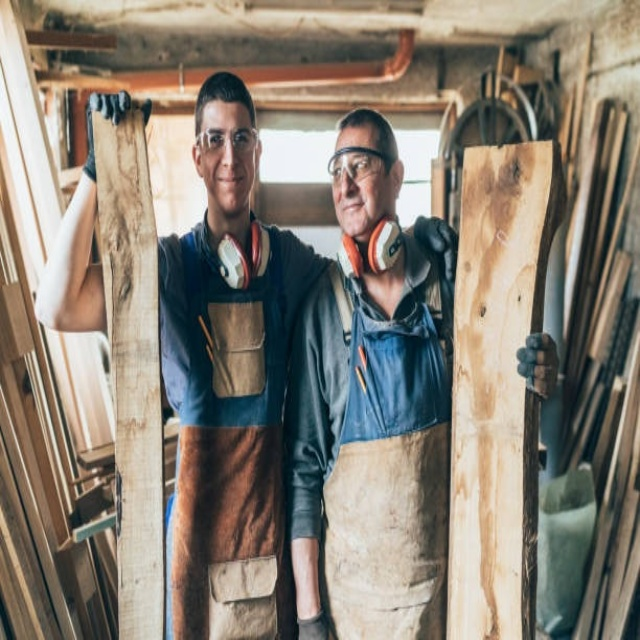Gafas: (328, 151, 390, 183), (195, 128, 259, 154)
Guantes: (82, 89, 149, 182), (414, 215, 458, 298), (518, 329, 562, 402), (296, 609, 330, 640)
Sin_mascara: (208, 166, 248, 202), (337, 196, 371, 229)
